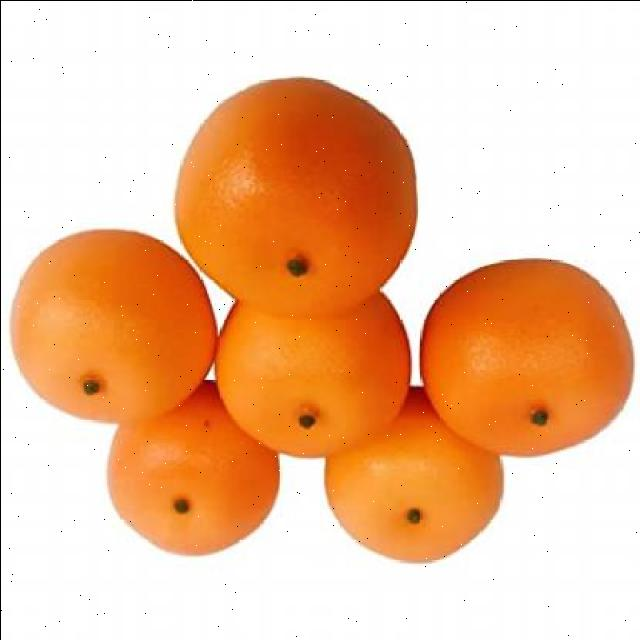Orange: (174, 77, 418, 321), (420, 258, 636, 458), (9, 229, 217, 425), (215, 291, 412, 460), (323, 388, 505, 564), (106, 382, 282, 558)
